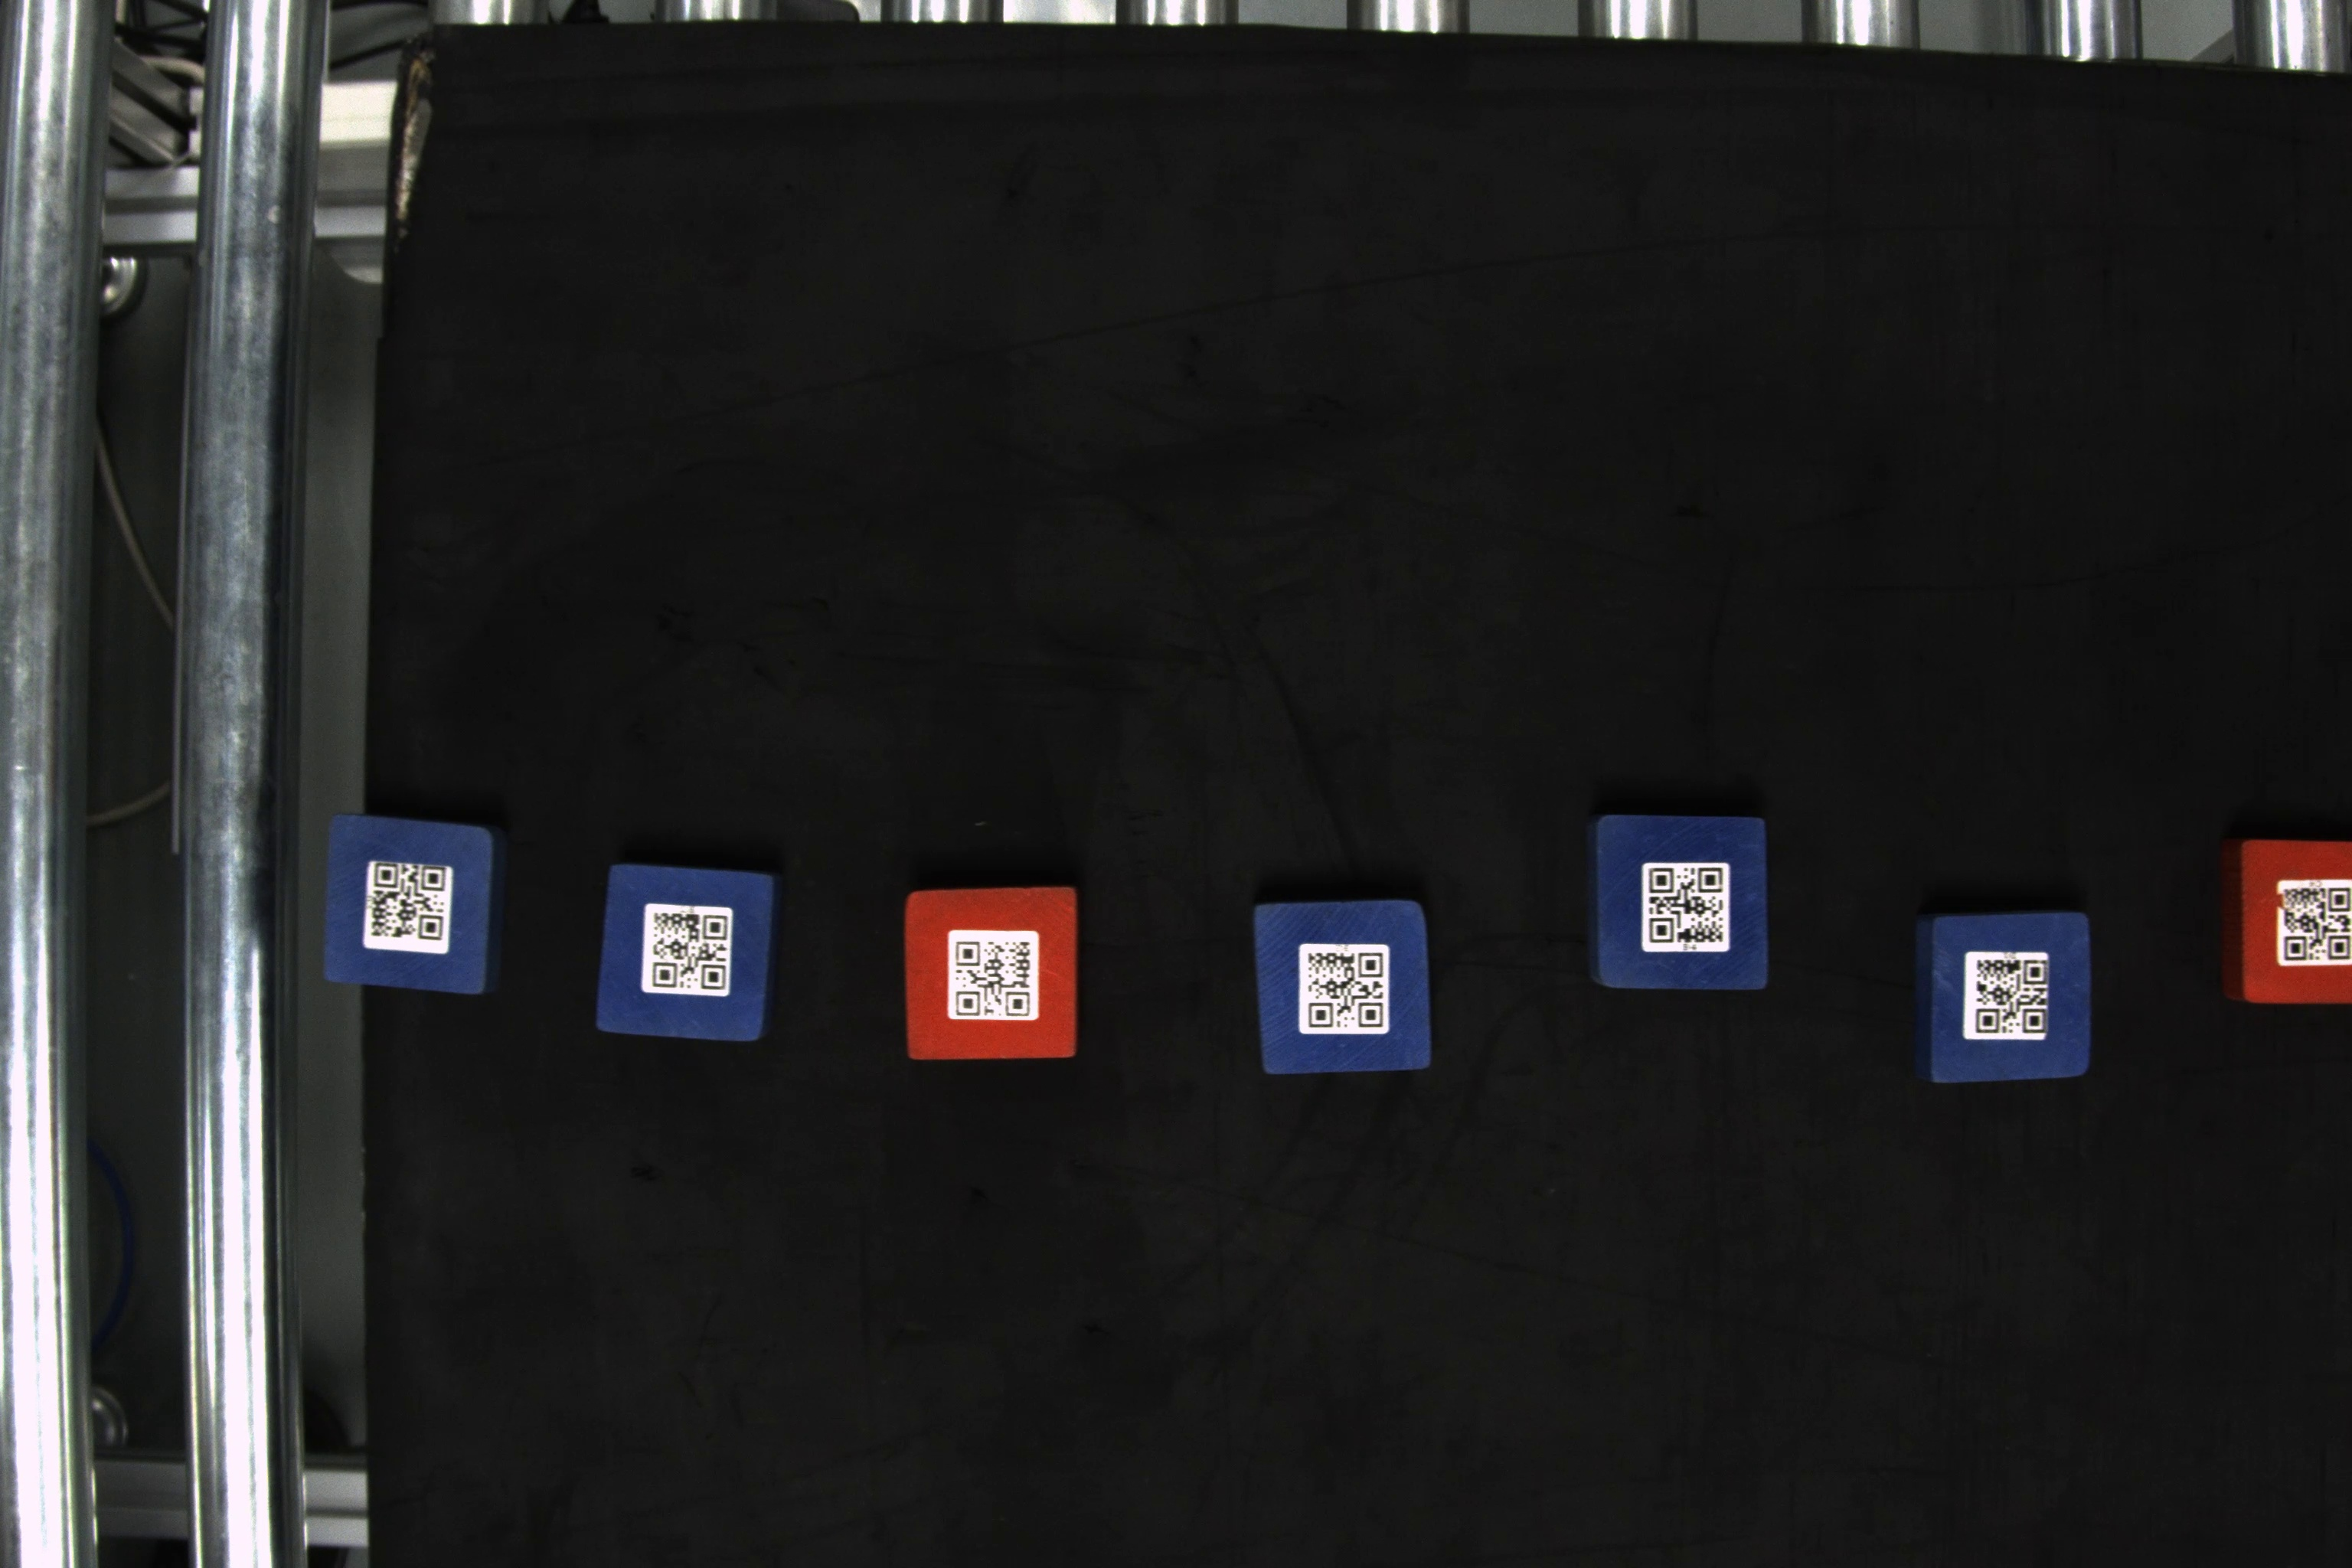wood: (590, 857, 779, 1046), (1585, 810, 1778, 996), (899, 882, 1085, 1069), (325, 805, 506, 996), (1251, 899, 1433, 1078), (1914, 910, 2096, 1088), (2226, 836, 2348, 1011)
